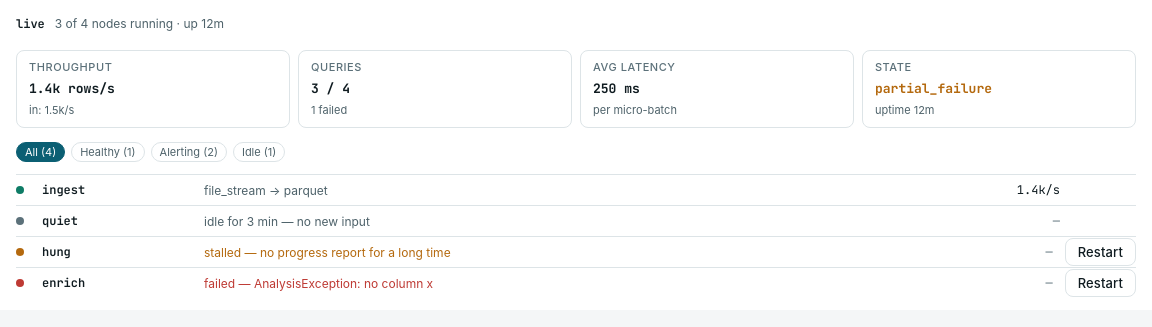
Test: StreamingStatusPanel › renders KPI cards and filters in fullView mode
Expected: the text "Throughput" is shown, [29, 60, 112, 74]
Expected: the text "1.4k rows/s" is shown, [29, 80, 115, 97]
# Filter to Alerting
Click the button "Alerting (2)": point(189, 152) [151, 142, 227, 162]
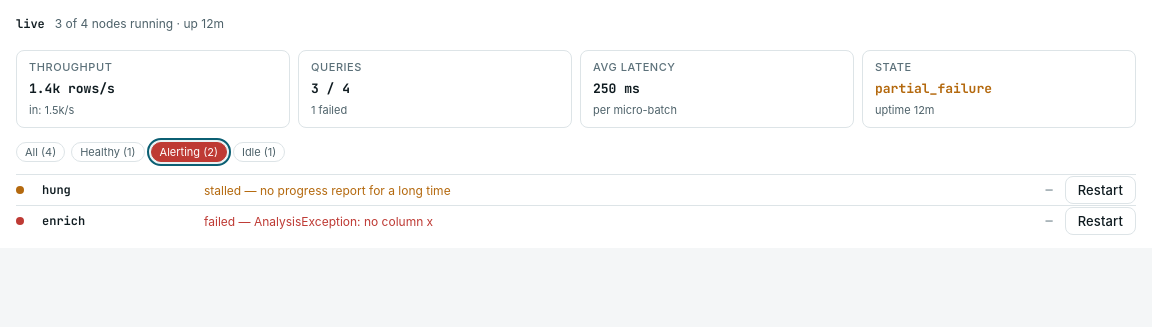
Expected: the button with aria-label "Restart node hung" is shown, [1065, 176, 1136, 204]
Now the button "file_stream → parquet" is gone
